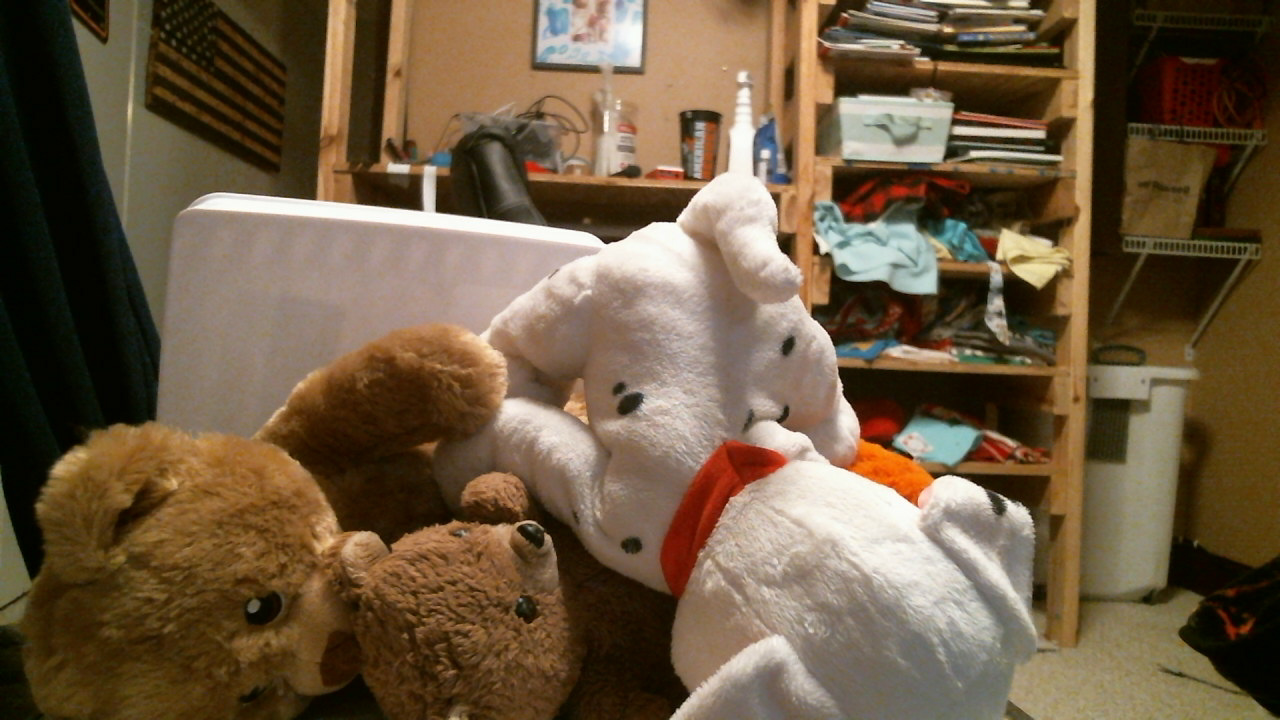Little_Mister_Bear: (454, 520, 561, 630)
